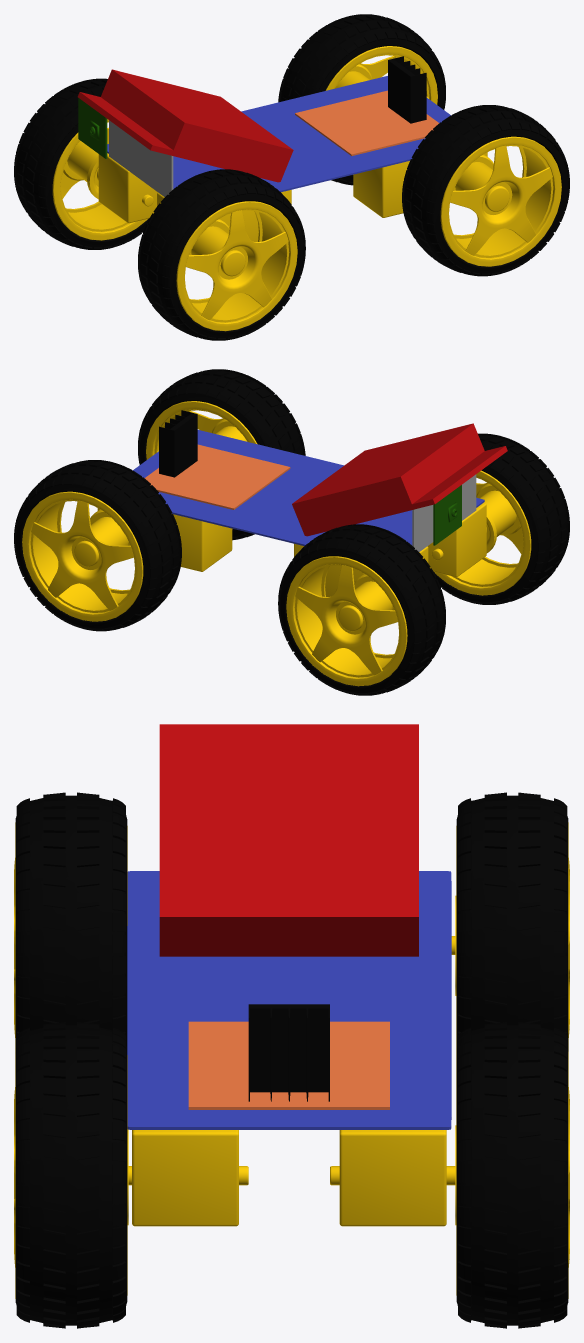
File: Drone(Backup).fbx
3 views of the same model, one above another, from view 1: azimuth 30°, elevation 25°; view 2: azimuth 150°, elevation 25°; view 3: azimuth 270°, elevation 25° (orthographic). The views are drawn at different scales.
Parts seen in each view (by area): view 1: Plane.003, Cylinder.002, Cube.001, Plane.002, Plane.004, Plane, Cube, Plane.006, Cube.002, Cube.003, Plane.007; view 2: Plane.004, Plane.002, Cylinder.002, Cube.001, Plane, Plane.003, Cube, Plane.006, Cube.003, Cube.002, Plane.007; view 3: Cube.001, Plane, Plane.004, Plane.003, Plane.002, Cylinder.002, Cube, Plane.006, Cube.003.
Boxes of the visible parts, left/top/right/bottom form: Plane.003: left=402, top=105, right=569, bottom=276; Cylinder.002: left=138, top=169, right=305, bottom=340; Cube.001: left=77, top=69, right=293, bottom=182; Plane.002: left=14, top=78, right=149, bottom=249; Plane.004: left=278, top=14, right=445, bottom=185; Plane: left=107, top=76, right=450, bottom=192; Cube: left=98, top=96, right=487, bottom=241; Plane.006: left=295, top=90, right=439, bottom=156; Cube.002: left=109, top=120, right=173, bottom=196; Cube.003: left=388, top=56, right=426, bottom=123; Plane.007: left=78, top=98, right=107, bottom=158; Plane.004: left=14, top=460, right=181, bottom=631; Plane.002: left=278, top=524, right=445, bottom=695; Cylinder.002: left=434, top=433, right=569, bottom=604; Cube.001: left=292, top=423, right=507, bottom=536; Plane: left=133, top=430, right=484, bottom=546; Plane.003: left=138, top=369, right=305, bottom=540; Cube: left=97, top=450, right=486, bottom=596; Plane.006: left=144, top=444, right=290, bottom=509; Cube.003: left=159, top=410, right=197, bottom=477; Cube.002: left=412, top=474, right=476, bottom=551; Plane.007: left=433, top=485, right=461, bottom=545; Cube.001: left=159, top=724, right=418, bottom=956; Plane: left=127, top=871, right=451, bottom=1129; Plane.004: left=455, top=1022, right=569, bottom=1328; Plane.003: left=14, top=1022, right=128, bottom=1328; Plane.002: left=455, top=792, right=569, bottom=1054; Cylinder.002: left=14, top=792, right=127, bottom=1051; Cube: left=128, top=936, right=455, bottom=1226; Plane.006: left=188, top=1021, right=389, bottom=1109; Cube.003: left=248, top=1004, right=329, bottom=1101.
Bounding box in the file's own units: 4.28 × 6.55 × 2.96.
